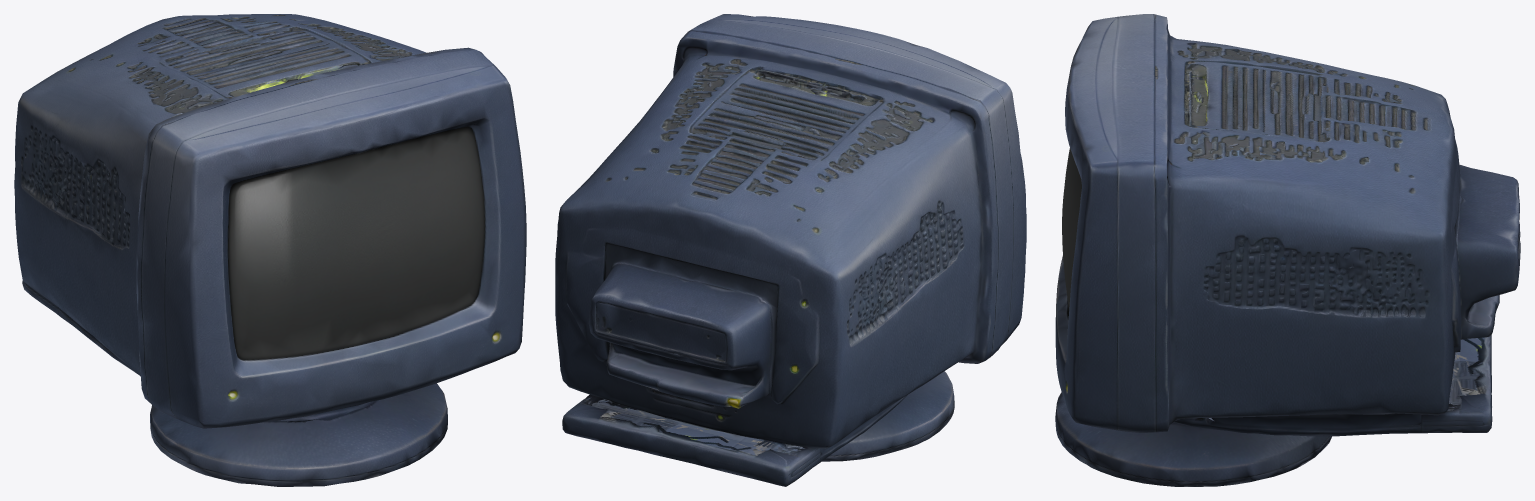
Rendered from VAR_Bedroom_CRTMonitor.fbx.
The picture shows the model from 3 angles, left to right: view 1: azimuth 30°, elevation 25°; view 2: azimuth 150°, elevation 25°; view 3: azimuth 270°, elevation 25°; orthographic projection. The views are drawn at different scales.
Visible parts, largest first — view 1: texture_mapping; view 2: texture_mapping; view 3: texture_mapping.
Part boxes in pixels (bbox=[...]): texture_mapping: bbox=[14, 14, 526, 486]; texture_mapping: bbox=[555, 14, 1026, 486]; texture_mapping: bbox=[1055, 14, 1520, 486].
Bounding box in the file's own units: 0.8423 × 0.9966 × 0.8275.
1 material, 1 textured.
